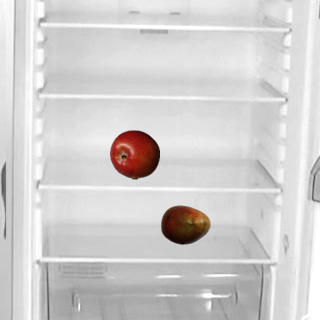Apple Braeburn: (109, 129, 159, 179)
Mango Red: (160, 199, 210, 249)
